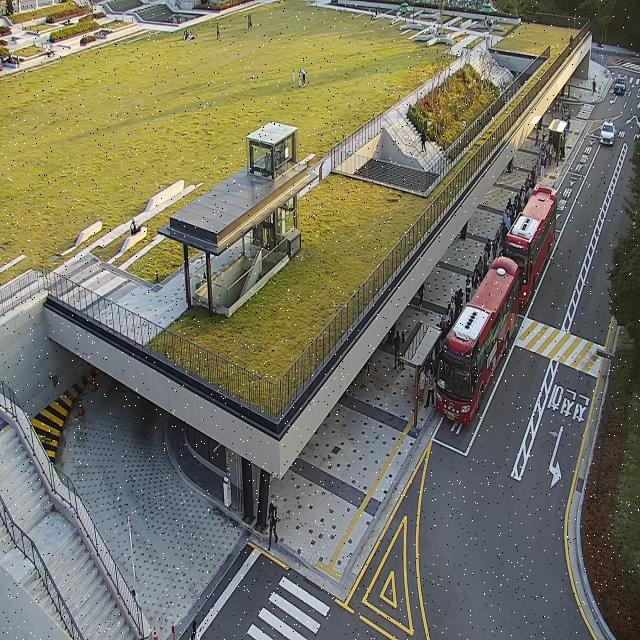queue: (414, 98, 571, 430)
